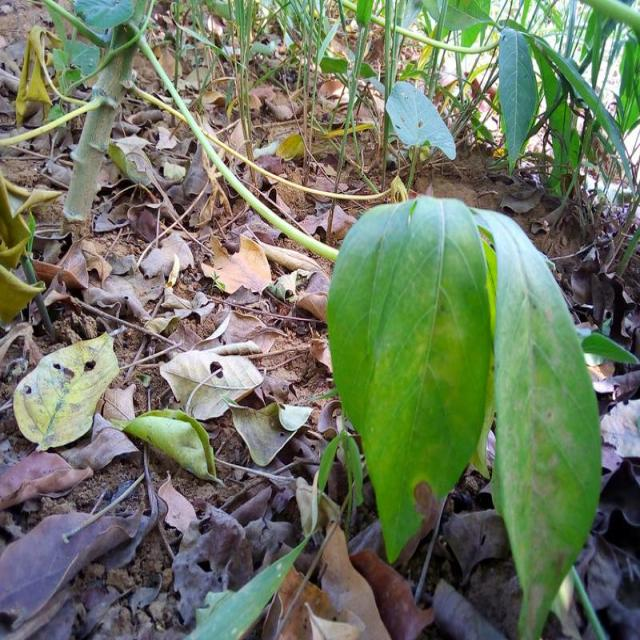cassava leaf: (325, 193, 497, 565), (468, 204, 602, 638), (11, 330, 119, 452), (115, 408, 222, 486), (384, 79, 457, 162), (497, 26, 538, 172)
